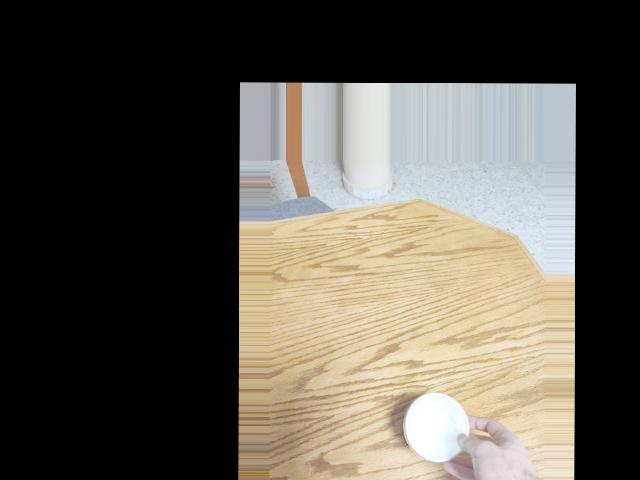cotage: (399, 387, 478, 467)
